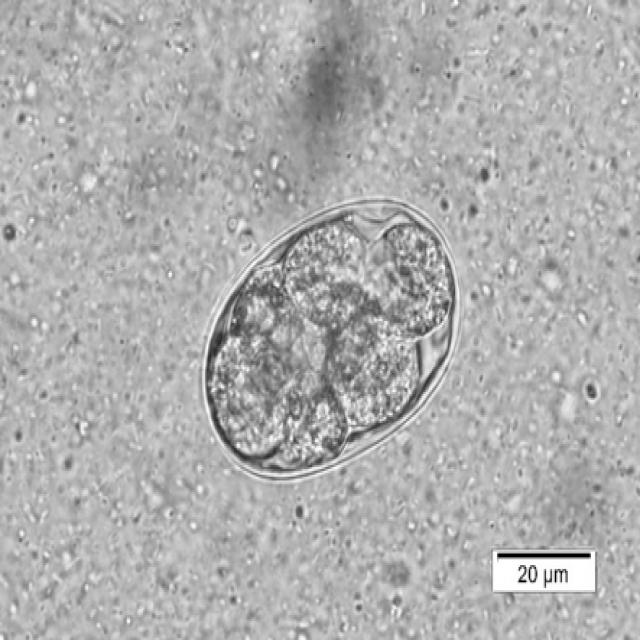Ancylostoma Spp: (191, 193, 469, 501)
